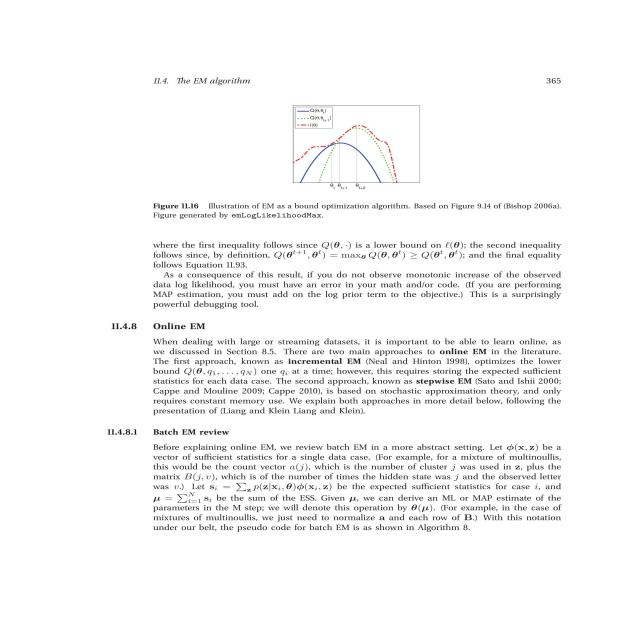diagram: (118, 70, 578, 231)
